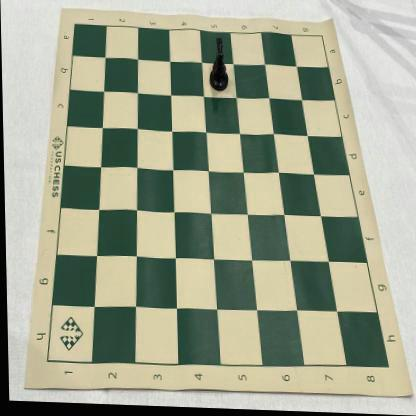black-knight: (207, 38, 229, 93)
